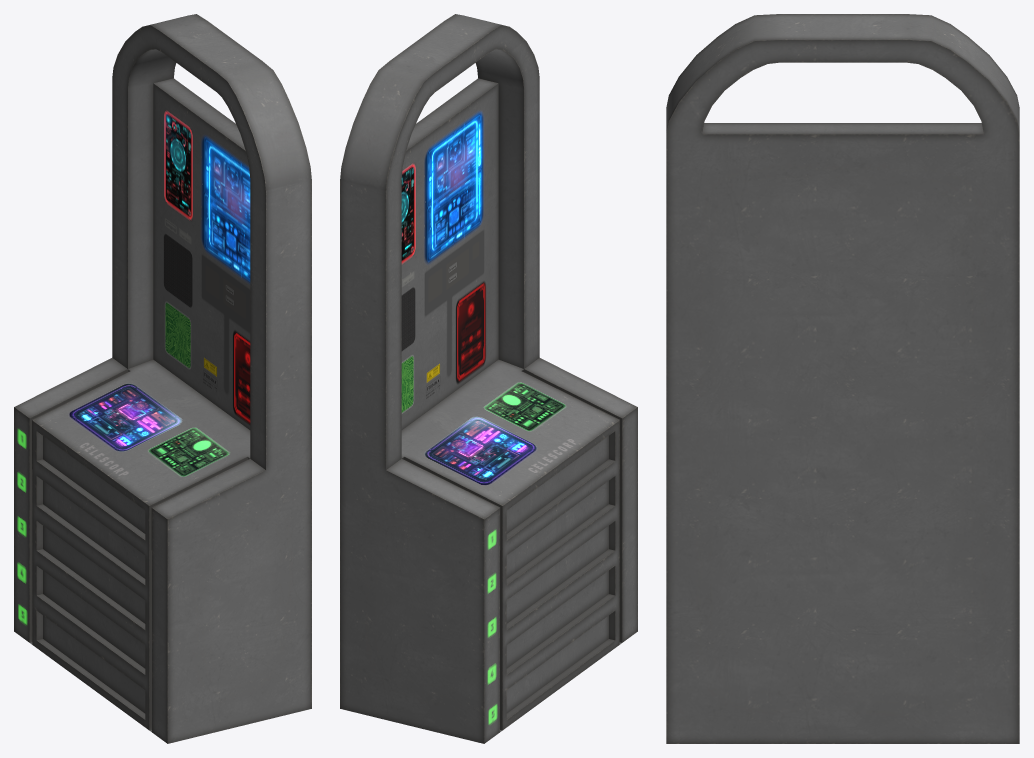
File: sci-fi_style_server.glb
3 renders of one model, left to right at view 1: azimuth 30°, elevation 25°; view 2: azimuth 150°, elevation 25°; view 3: azimuth 270°, elevation 25°, orthographic. The views are drawn at different scales.
Visible parts, largest first — view 1: SM_Server.001_0; view 2: SM_Server.001_0; view 3: SM_Server.001_0.
Part boxes in pixels (x1,y1,x2,y2): SM_Server.001_0: (14,14,311,743); SM_Server.001_0: (340,14,637,743); SM_Server.001_0: (666,14,1019,743).
Bounding box in the file's own units: 0.728 × 2.95 × 1.34.
Materials: 1 (1 with a texture image).
